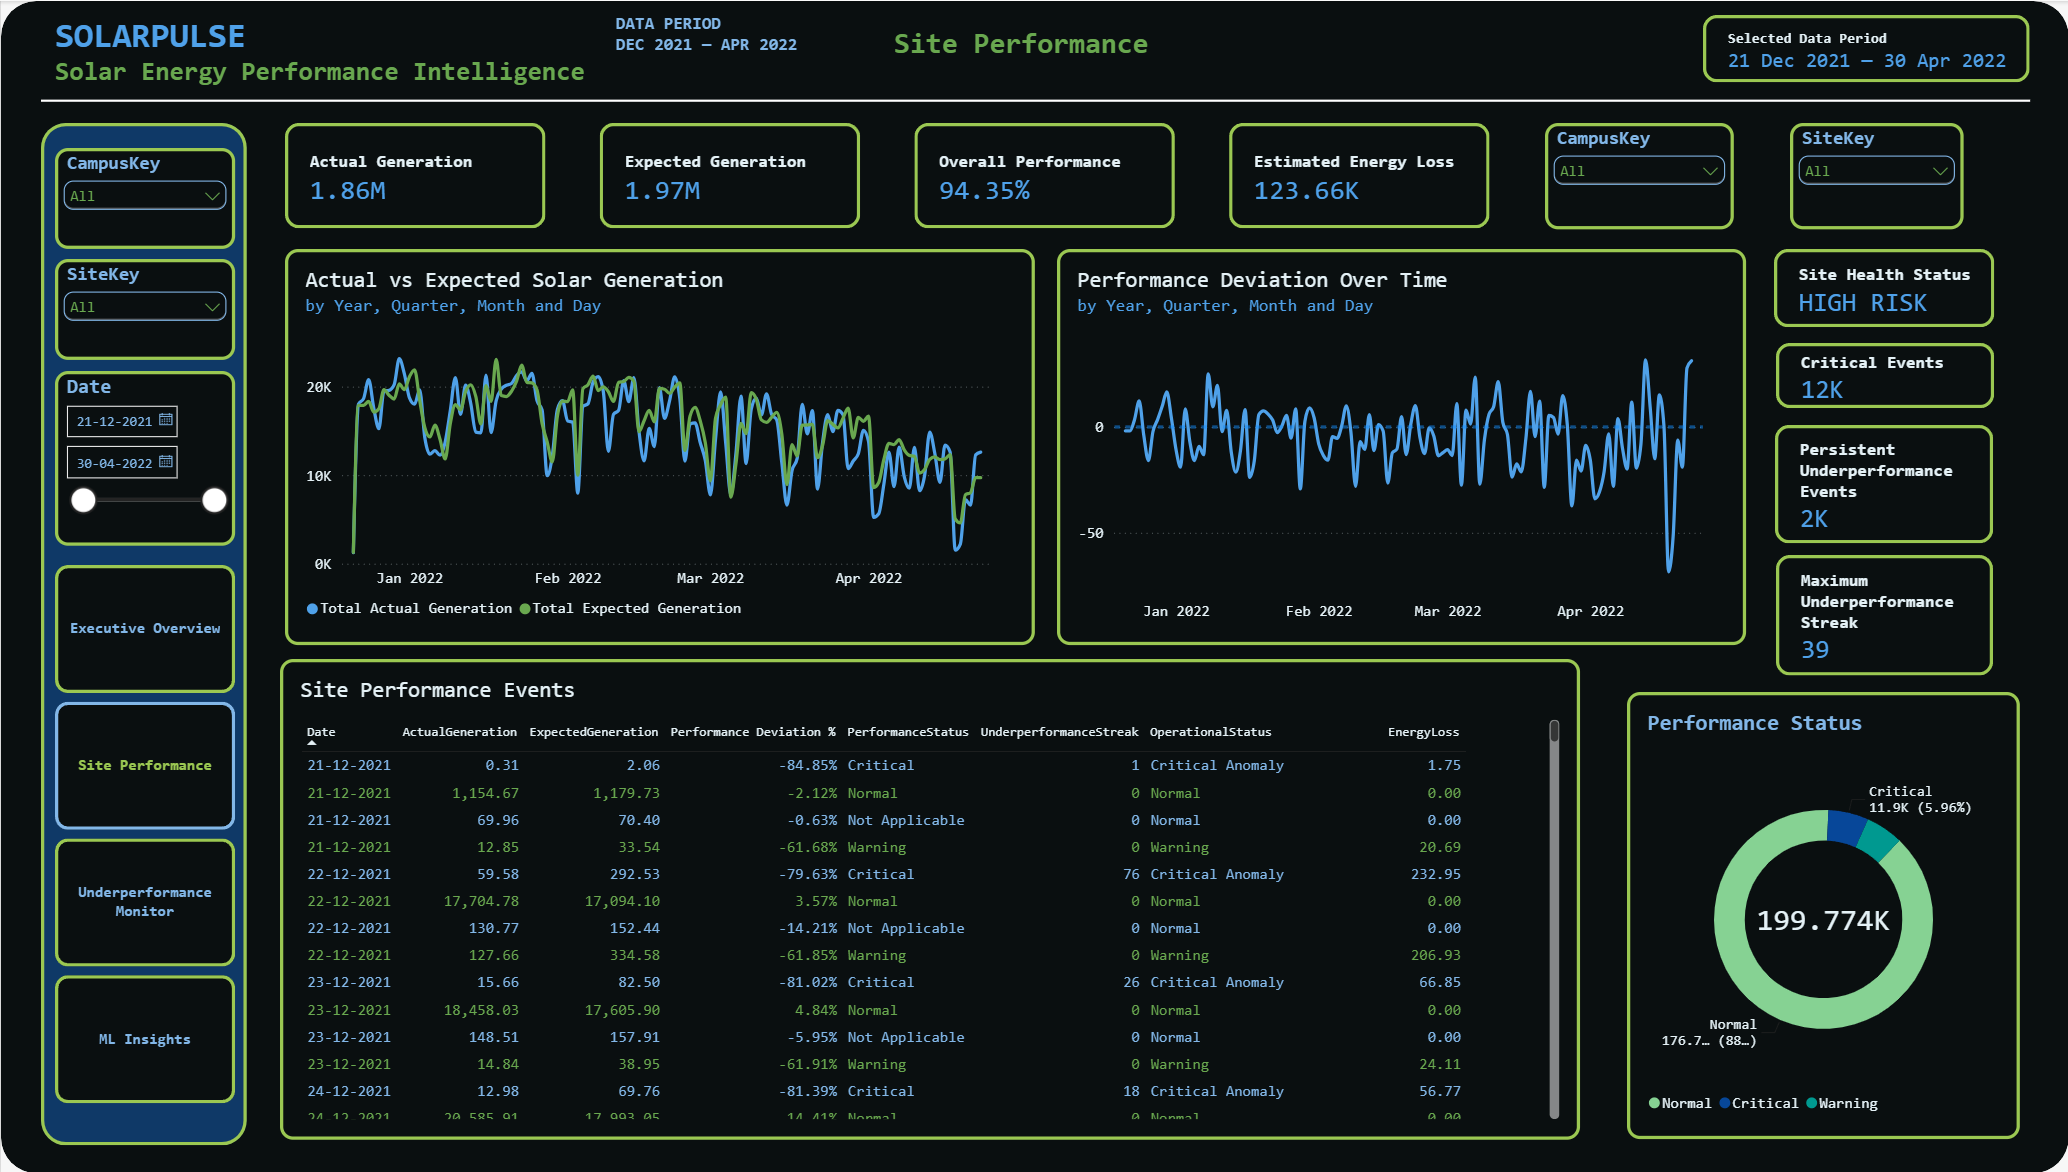

This screenshot's page, from the dashboard's own definition file:
{"tool":"powerbi","page":{"name":"Site Performance","canvas":[1920,1080],"ordinal":1},"visuals":[{"type":"shape","box":[0,0,1905.4,1080.1],"z":0},{"type":"textbox","box":[49.6,13.6,590.1,82.6],"z":1000},{"type":"shape","box":[36.9,0,1833.5,183.7],"z":2000},{"type":"cardVisual","fields":{"Data":["All_Measures.Total Actual Generation","All_Measures.Total Expected Generation","All_Measures.Overall Performance %","All_Measures.Total Energy Loss"]},"box":[261.5,112.7,1110.6,97.9],"z":3000},{"type":"shape","box":[36.9,112.8,189.6,942],"z":4000},{"type":"lineChart","title":"Actual vs Expected Solar Generation","fields":{"Y":["All_Measures.Total Actual Generation","All_Measures.Total Expected Generation"],"Category":["DateTable.Date.Variation.Date Hierarchy.Year"]},"box":[261.5,228.2,691.1,365],"z":5000},{"type":"donutChart","title":"Performance Status","fields":{"Category":["vw_solar_performance.PerformanceStatus"],"Y":["CountNonNull(vw_solar_performance.PerformanceID)"]},"box":[1498.7,636.6,362.2,412.1],"z":6000},{"type":"tableEx","title":"Site Performance Events","fields":{"Values":["DateTable.Date.Variation.Date Hierarchy.Year","Sum(vw_solar_performance.ActualGeneration)","Sum(vw_solar_performance.ExpectedGeneration)","All_Measures.Performance Deviation %","vw_solar_performance.PerformanceStatus","Sum(vw_solar_performance.UnderperformanceStreak)","vw_solar_performance.OperationalStatus","Sum(vw_solar_performance.EnergyLoss)"]},"box":[256.8,606.2,1198.4,442.9],"z":8000},{"type":"slicer","fields":{"Values":["solar_sites.SiteKey"]},"box":[1648.4,112.7,159.8,97.9],"z":9000},{"type":"slicer","title":"Campus Key","fields":{"Values":["solar_sites.CampusKey"]},"box":[1422.9,112.7,173.7,97.9],"z":10000},{"type":"lineChart","title":"Performance Deviation Over Time","fields":{"Category":["DateTable.Date.Variation.Date Hierarchy.Year"],"Y":["All_Measures.Average Performance Deviation %"]},"box":[972.9,228.2,634.8,365],"z":11000},{"type":"cardVisual","fields":{"Data":["All_Measures.Persistent Underperformance Events"]},"box":[1634.5,390.8,201.4,110],"z":12000},{"type":"cardVisual","fields":{"Data":["All_Measures.Critical Events"]},"box":[1635.4,315.1,201.4,61],"z":13000},{"type":"cardVisual","fields":{"Data":["All_Measures.Site Health Status"]},"box":[1633.6,228.2,203.3,73],"z":14000},{"type":"cardVisual","fields":{"Data":["All_Measures.Maximum Underperformance Streak"]},"box":[1635.4,511,200.5,111.8],"z":15000},{"type":"slicer","title":"Campus Key","fields":{"Values":["solar_sites.CampusKey"]},"box":[49.8,135.3,166.3,93],"z":15001},{"type":"slicer","title":"Campus Key","fields":{"Values":["vw_solar_performance.SiteKey"]},"box":[49.8,237.8,166.3,93],"z":15002},{"type":"slicer","title":"Campus Key","fields":{"Values":["DateTable.Date"]},"box":[49.8,341.1,166.3,160.7],"z":15003},{"type":"textbox","box":[566.7,11.3,227.4,43.2],"z":15004},{"type":"textbox","box":[823.3,23.5,526.3,42.3],"z":15005},{"type":"cardVisual","fields":{"Data":["All_Measures.Selected Data Period"]},"box":[1568.5,13.2,301.7,63],"z":15006},{"type":"pageNavigator","box":[49.8,519.7,166.3,500],"z":15007}]}

Visuals, with their boxes in screenshot pixels (x1, y1, x2, y2), scaled from the page's 1920x1080 canvas onto the 2068x1172 screenshot:
shape: BBox(0, 0, 2052, 1171)
textbox: BBox(53, 15, 689, 104)
shape: BBox(40, 0, 2015, 199)
cardVisual - All_Measures.Total Actual Generation x All_Measures.Total Expected Generation: BBox(282, 122, 1478, 229)
shape: BBox(40, 122, 244, 1145)
"Actual vs Expected Solar Generation" lineChart: BBox(282, 248, 1026, 644)
"Performance Status" donutChart: BBox(1614, 691, 2004, 1138)
"Site Performance Events" tableEx: BBox(277, 658, 1567, 1138)
slicer - solar_sites.SiteKey: BBox(1775, 122, 1948, 229)
"Campus Key" slicer: BBox(1533, 122, 1720, 229)
"Performance Deviation Over Time" lineChart: BBox(1048, 248, 1732, 644)
cardVisual - All_Measures.Persistent Underperformance Events: BBox(1760, 424, 1977, 543)
cardVisual - All_Measures.Critical Events: BBox(1761, 342, 1978, 408)
cardVisual - All_Measures.Site Health Status: BBox(1760, 248, 1978, 327)
cardVisual - All_Measures.Maximum Underperformance Streak: BBox(1761, 555, 1977, 676)
"Campus Key" slicer: BBox(54, 147, 233, 248)
"Campus Key" slicer: BBox(54, 258, 233, 359)
"Campus Key" slicer: BBox(54, 370, 233, 545)
textbox: BBox(610, 12, 855, 59)
textbox: BBox(887, 26, 1454, 71)
cardVisual - All_Measures.Selected Data Period: BBox(1689, 14, 2014, 83)
pageNavigator: BBox(54, 564, 233, 1107)
